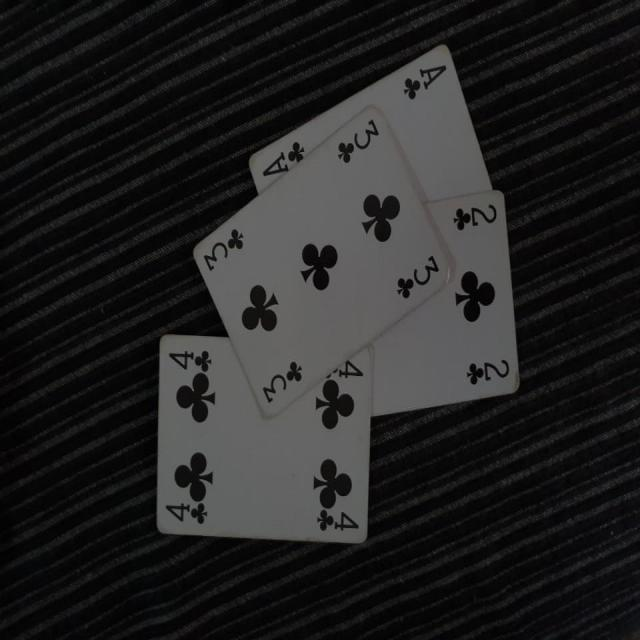2 Trefoils: (368, 189, 521, 418)
3 Trefoils: (192, 102, 451, 419)
4 Trefoils: (155, 334, 377, 547)
A Trefoils: (245, 42, 492, 204)
